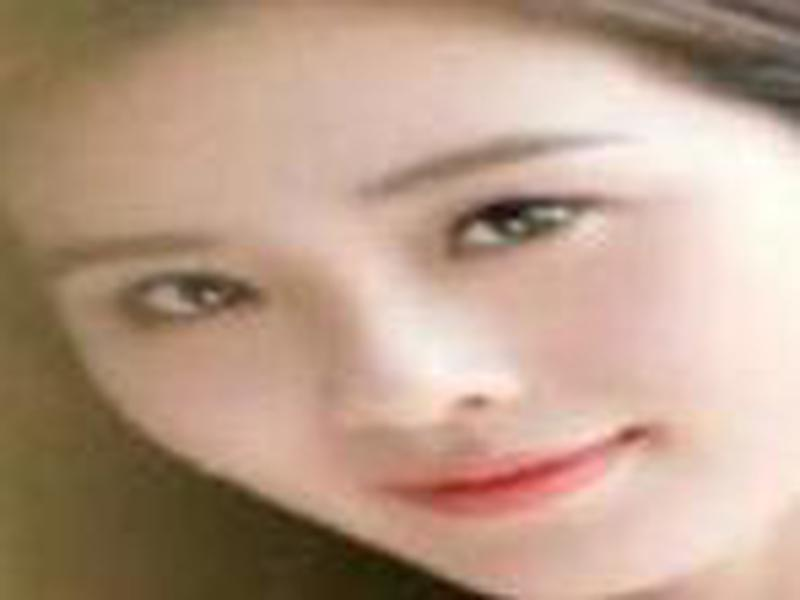without_mask: (16, 38, 793, 595)
